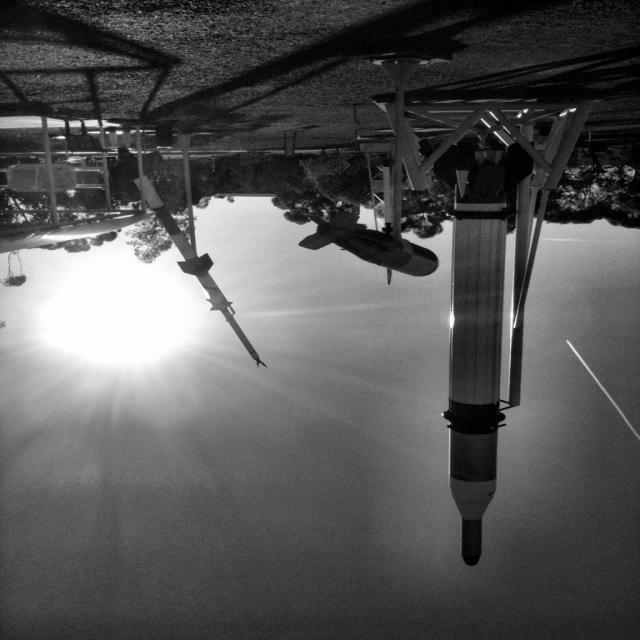missile: (126, 164, 280, 380)
